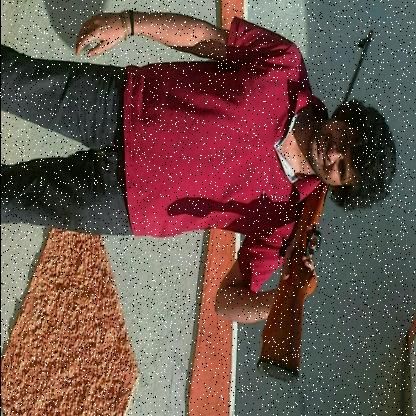rifle: (252, 26, 376, 388)
